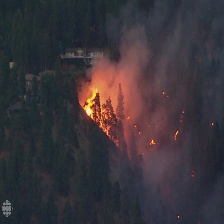fire: (81, 89, 96, 117)
smoke: (94, 11, 224, 208)
